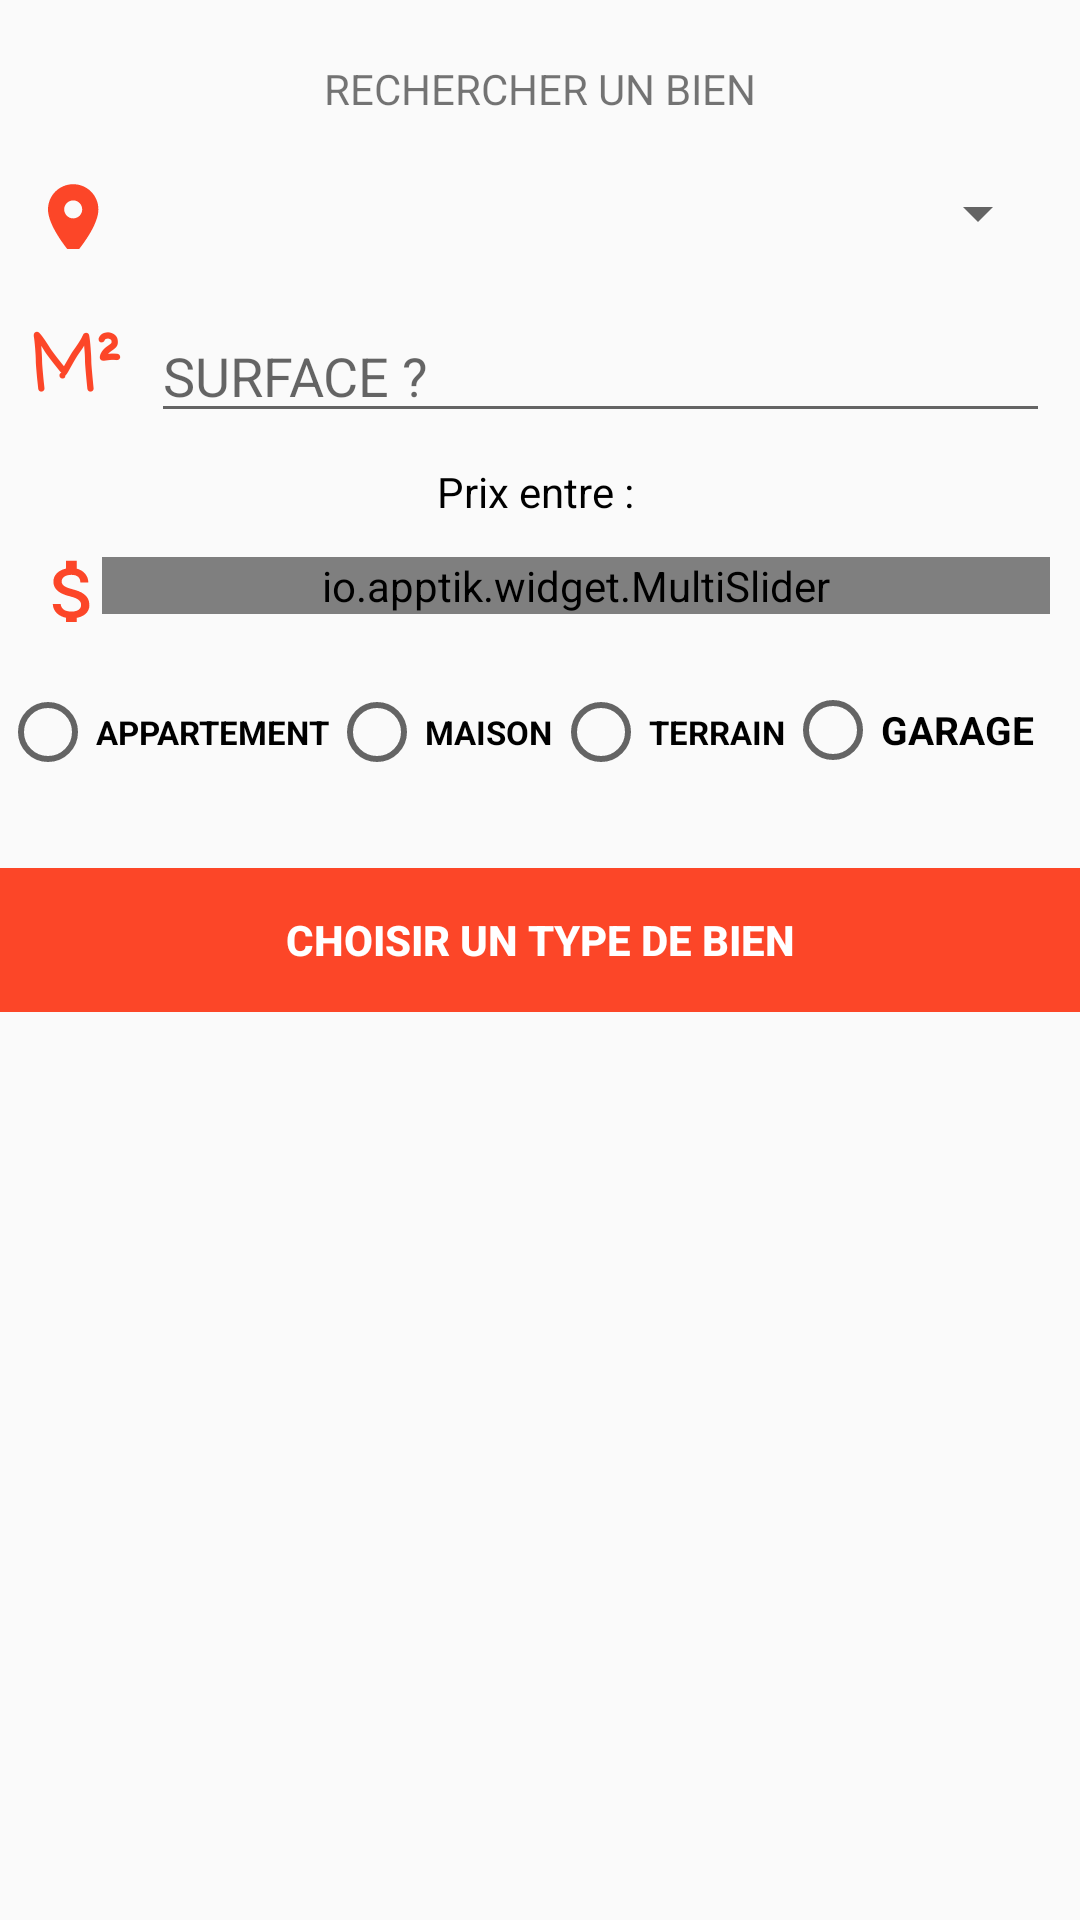

Icon click points for this 1080px×1920px phone screenshot, format (x=x, y=y):
attach money: (x=71, y=591)
location on: (x=73, y=216)
